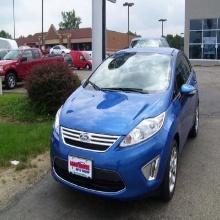no damage: (51, 48, 199, 202), (1, 47, 66, 87)
